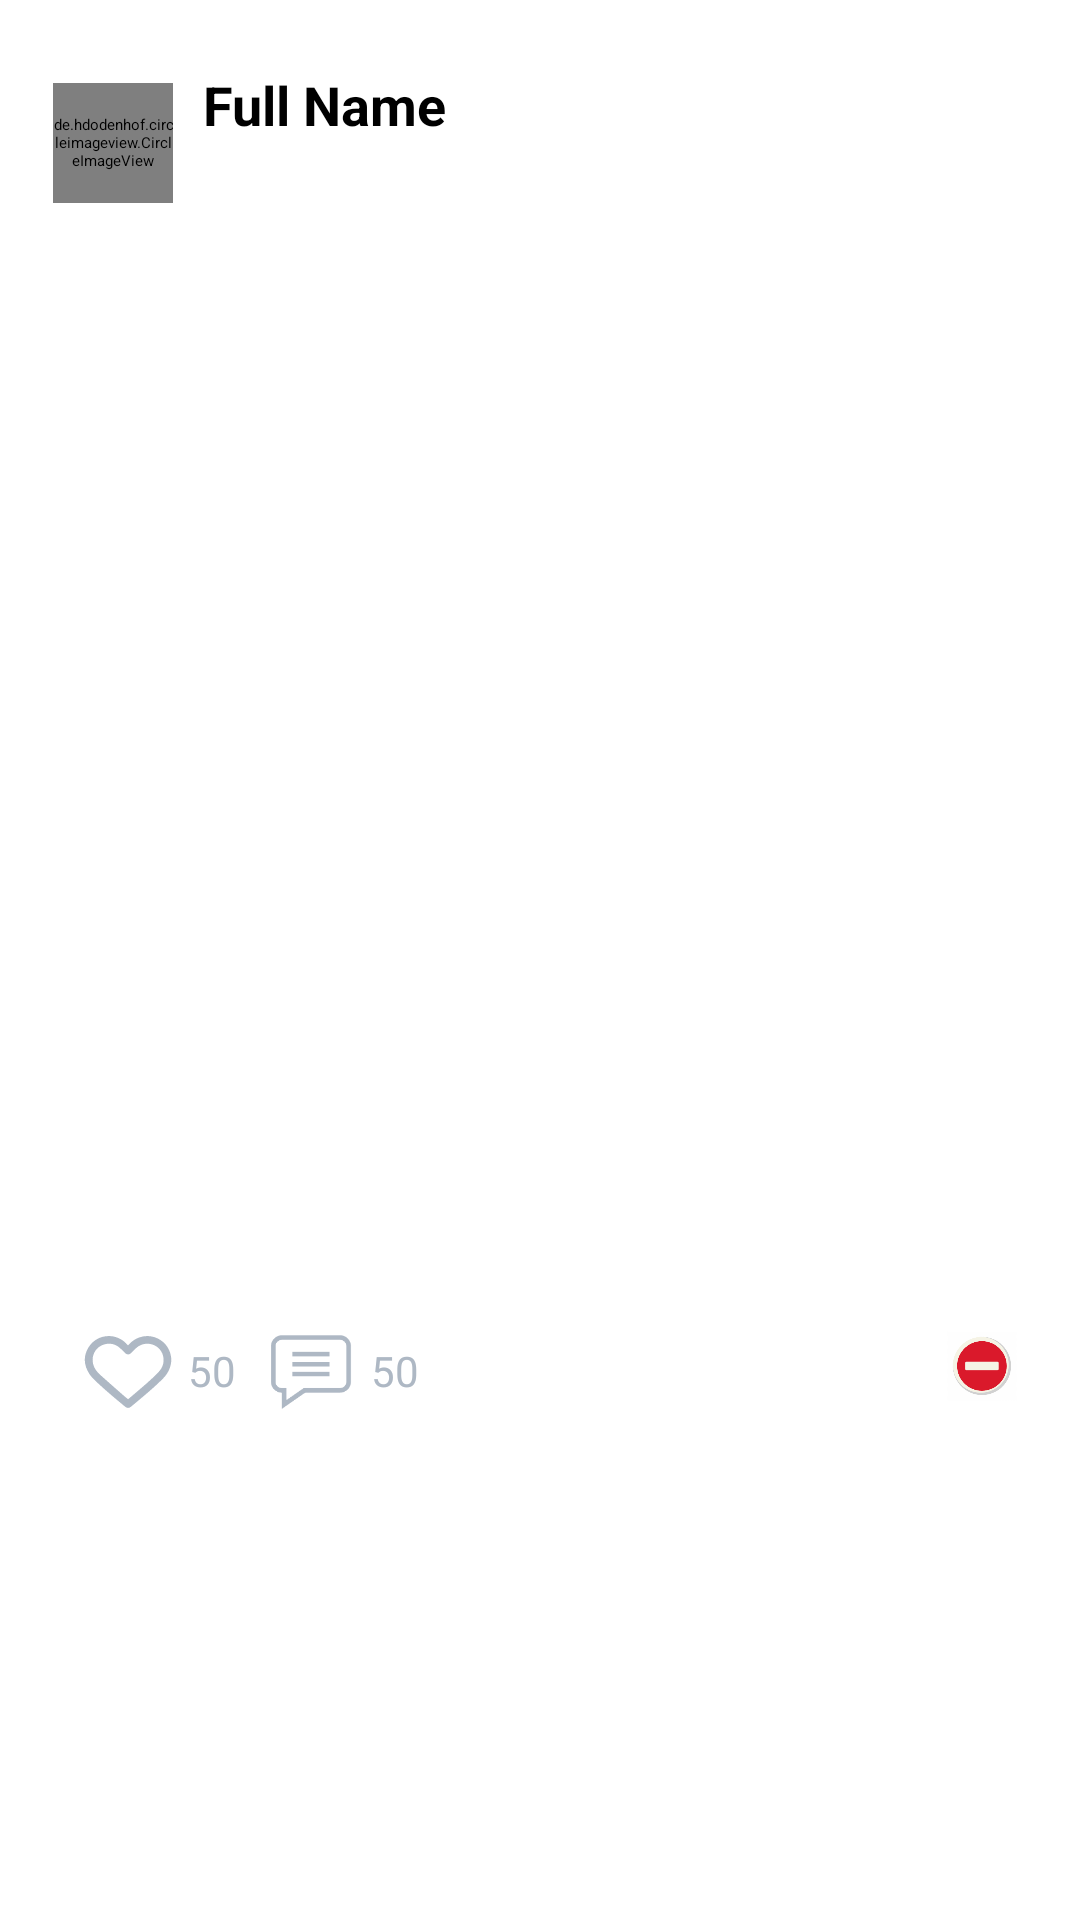

Screen size 1080px x 1920px. Icon name, then its box in pixels as (x1, y1, x2, y2):
block: (953, 1337, 1011, 1395)
comment: (271, 1335, 351, 1409)
heart: (85, 1336, 171, 1408)
